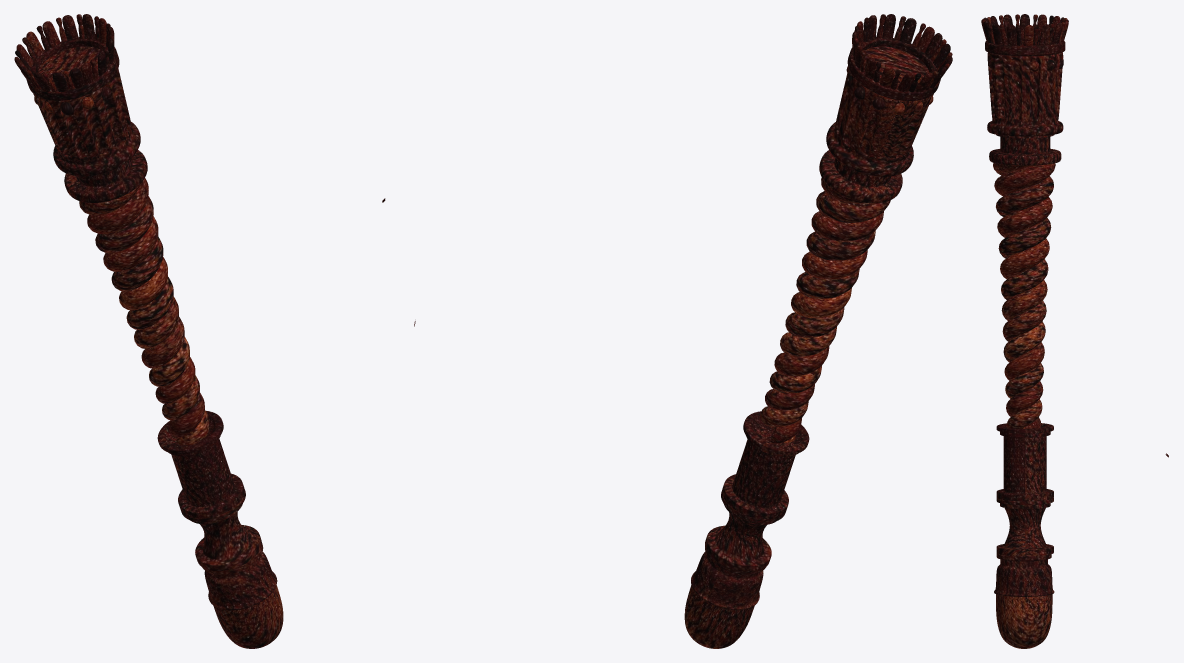
File: Antorcha.FBX
3 views of the same model, side by side, from view 1: azimuth 30°, elevation 25°; view 2: azimuth 150°, elevation 25°; view 3: azimuth 270°, elevation 25° (orthographic). The views are drawn at different scales.
Visible parts, largest first — view 1: Mashal_MMM_Group63307; view 2: Mashal_MMM_Group63307; view 3: Mashal_MMM_Group63307.
Part boxes in pixels (box(x1,y1,x2,y2)): Mashal_MMM_Group63307: box(14, 14, 385, 648); Mashal_MMM_Group63307: box(414, 14, 952, 648); Mashal_MMM_Group63307: box(981, 14, 1168, 648).
Size of the model in its own units: 5.19 by 7.34 by 2.23.
1 material, 1 textured.
